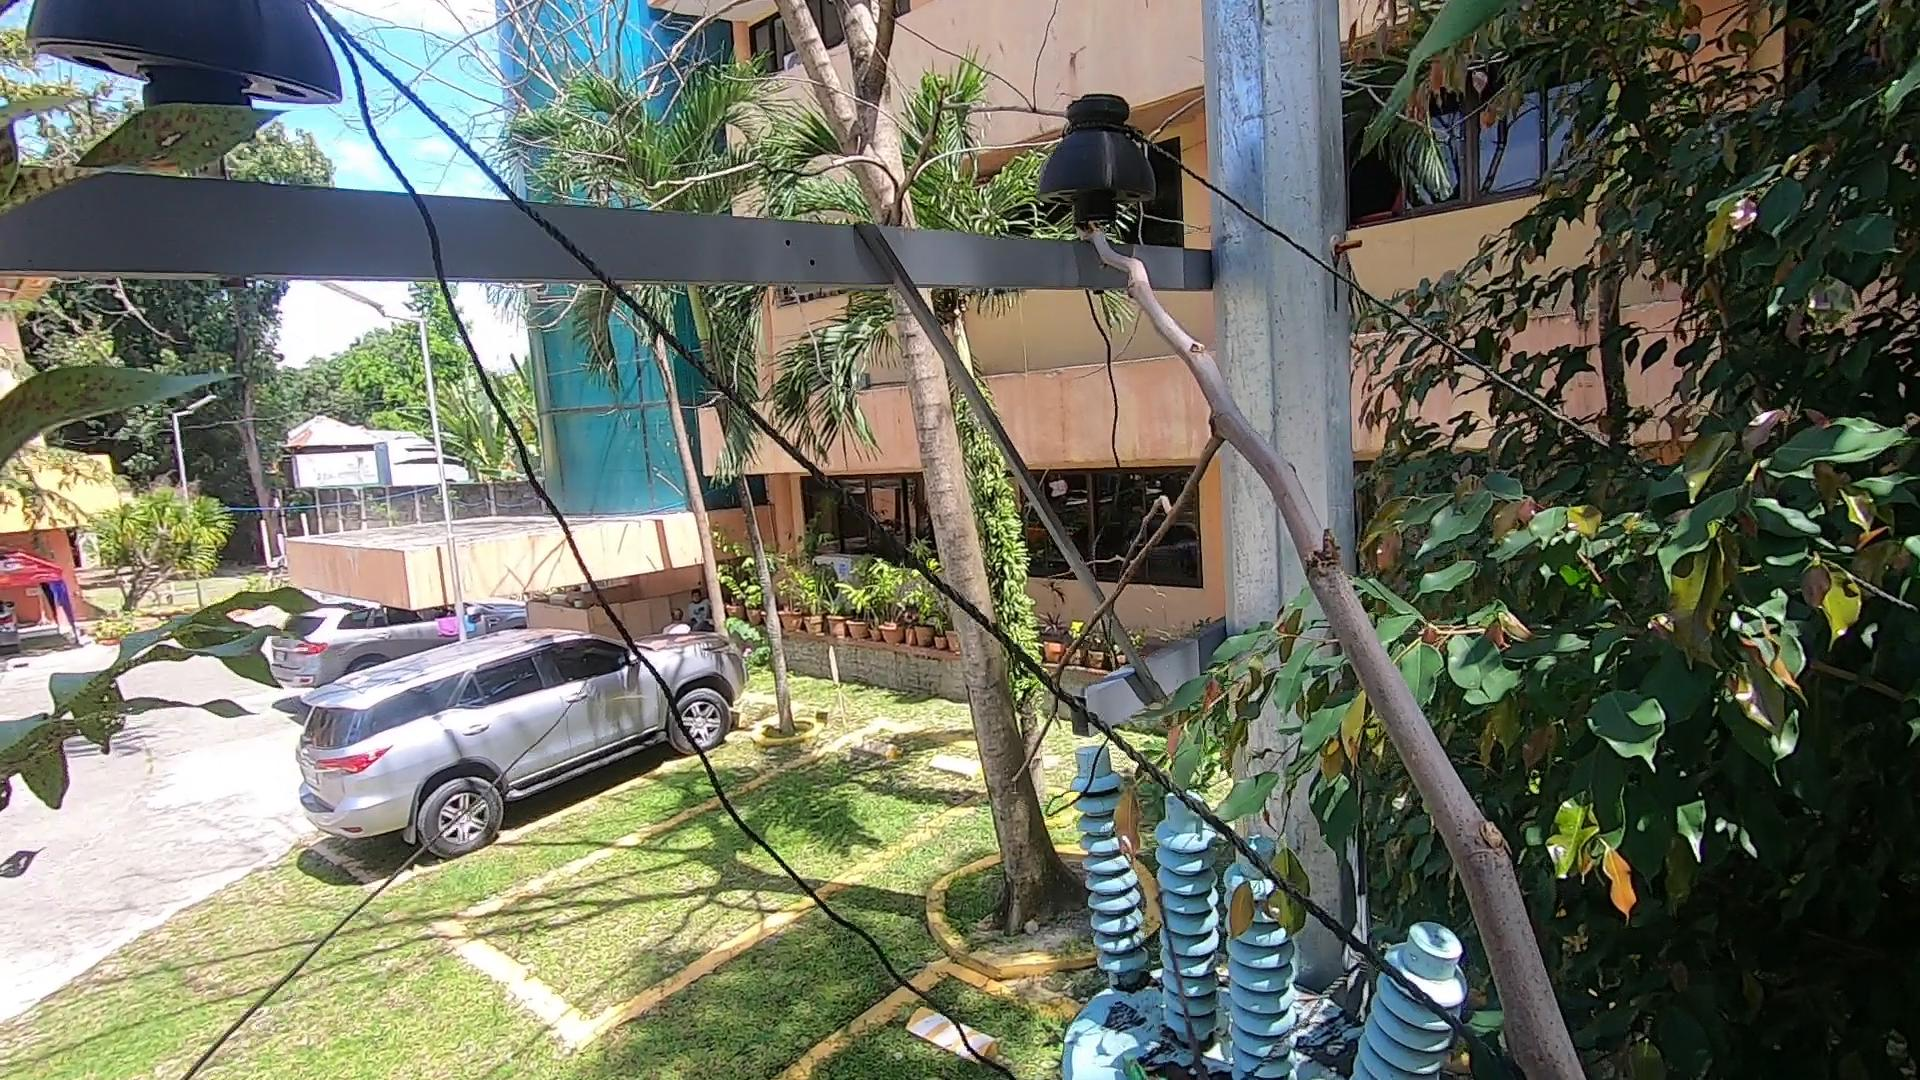branch with leaves: (1108, 599, 1418, 951)
leaf: (1, 28, 247, 270), (1151, 1018, 1232, 1076), (1294, 1029, 1358, 1080), (1124, 968, 1164, 993)
tree branch: (1051, 193, 1615, 1080)
